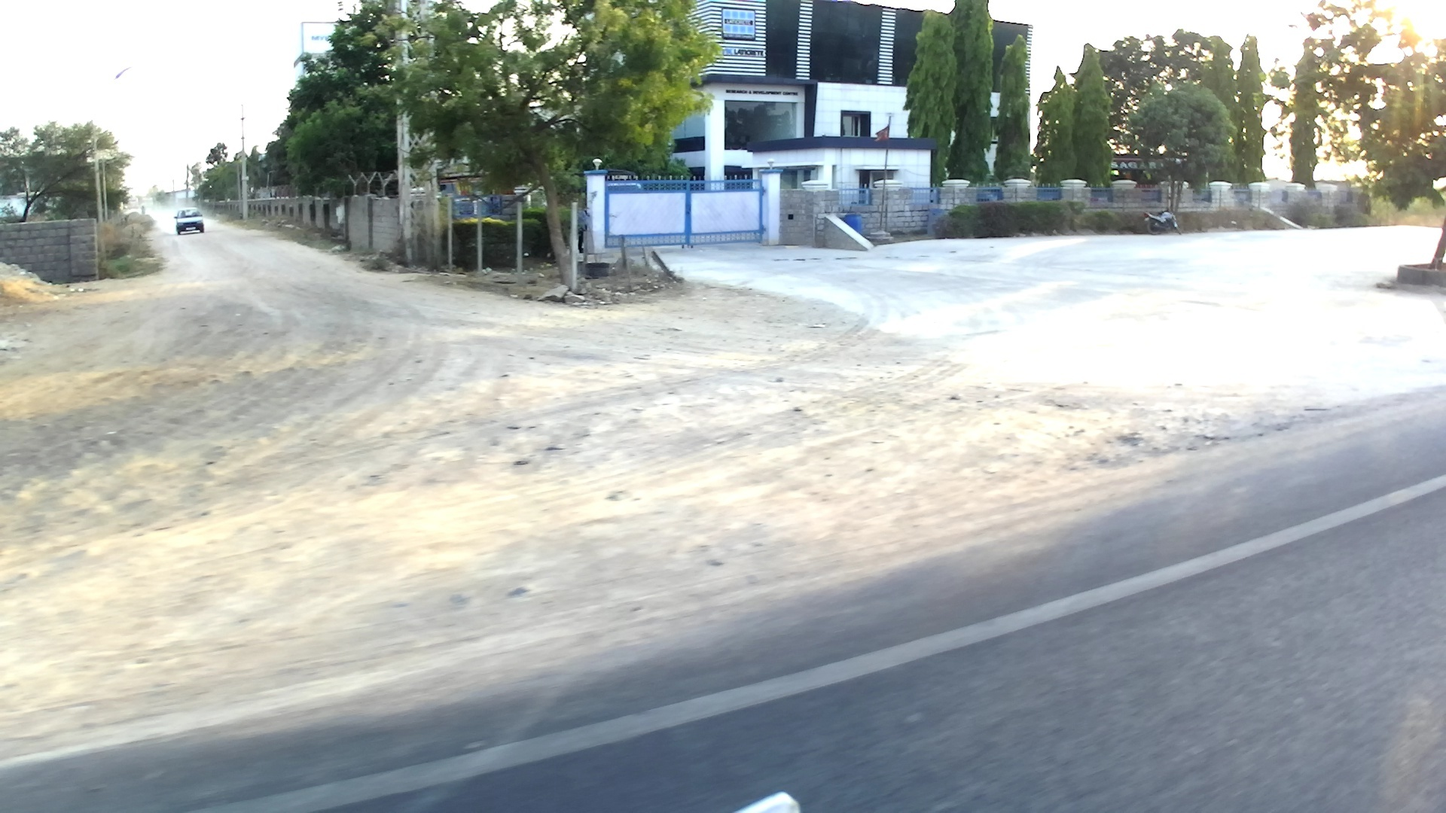car: (168, 206, 210, 236)
motorcycle: (1136, 206, 1183, 239)
